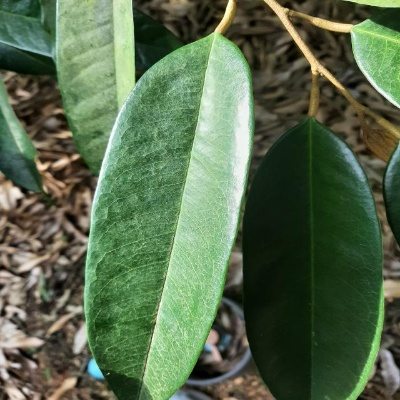Leaf_Healthy: (82, 14, 256, 400)
